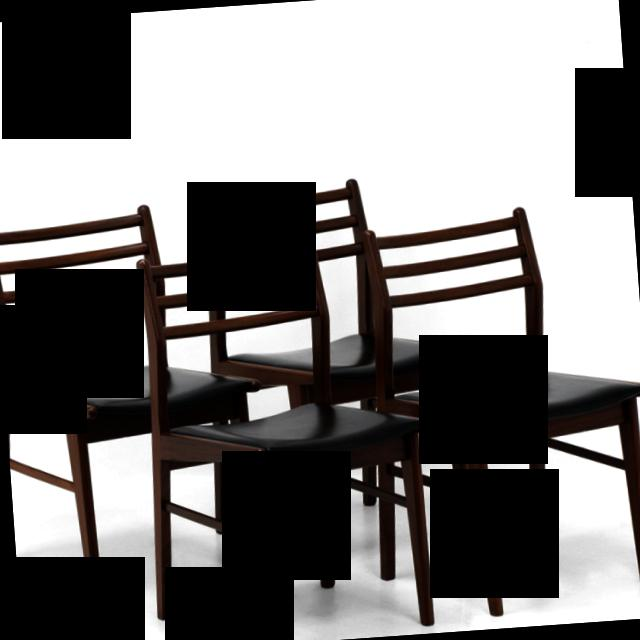chair vintage: (121, 225, 450, 640)
